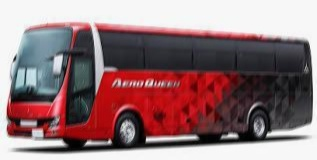bus: (9, 20, 310, 145)
